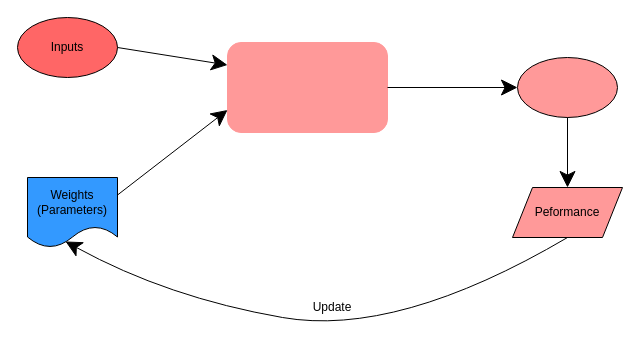
Image size: 640x339. Some labels were removed from this diagram. The shapes that lost their labels are listed below. From the top down, each one's box as (x1, y1, x2, y2) in pixels, then its label:
(226, 42, 388, 132): Program (ML/DL Model)
(516, 56, 618, 118): Results
